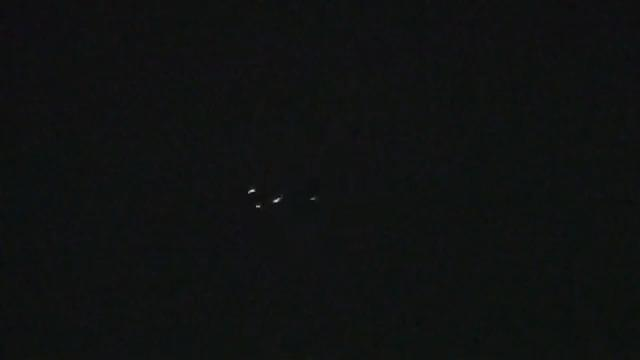Plane: (244, 169, 322, 211)
